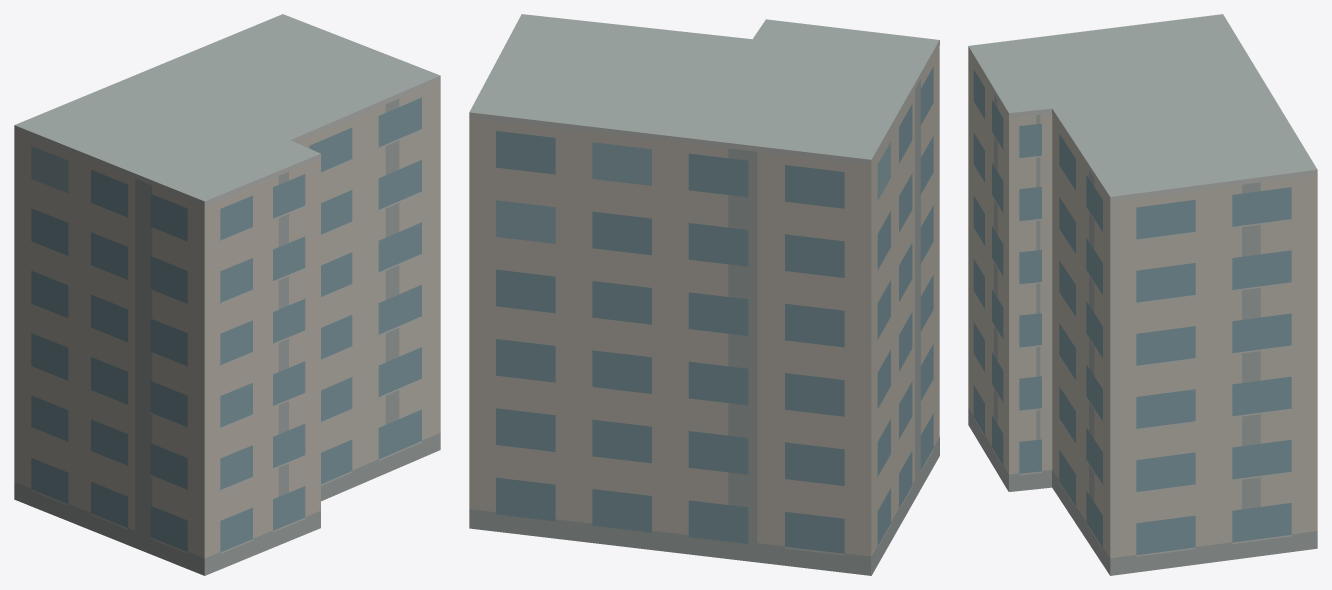
The model's file is survey-upis-32578376.glb.
3 renders of one model, left to right at view 1: azimuth 30°, elevation 25°; view 2: azimuth 150°, elevation 25°; view 3: azimuth 270°, elevation 25°, orthographic. The views are drawn at different scales.
Parts seen in each view (by area): view 1: survey-upis-32578376.tmp; view 2: survey-upis-32578376.tmp; view 3: survey-upis-32578376.tmp.
Part boxes in pixels (x1,y1,x2,y2): survey-upis-32578376.tmp: [14, 14, 440, 575]; survey-upis-32578376.tmp: [469, 14, 939, 575]; survey-upis-32578376.tmp: [968, 14, 1317, 575].
Size of the model in its own units: 18.96 by 18.3 by 15.3.
